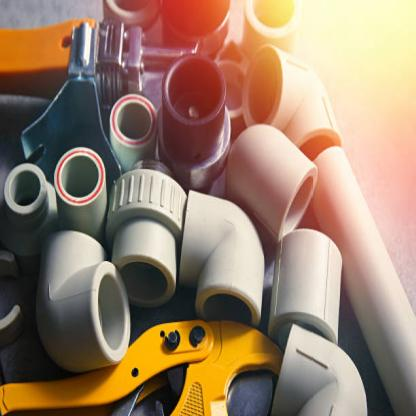PVC: (310, 147, 415, 414), (34, 232, 134, 375), (97, 159, 187, 309), (242, 43, 347, 166), (174, 193, 265, 325), (223, 124, 323, 241), (270, 229, 345, 350), (270, 325, 368, 415), (0, 163, 61, 279), (50, 149, 109, 240), (109, 92, 159, 173), (239, 1, 307, 48), (103, 0, 159, 29)
